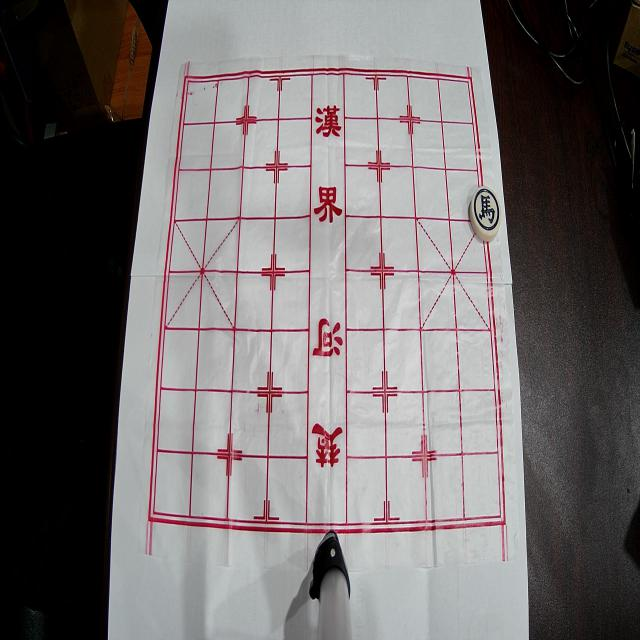black-horse: (469, 186, 502, 242)
